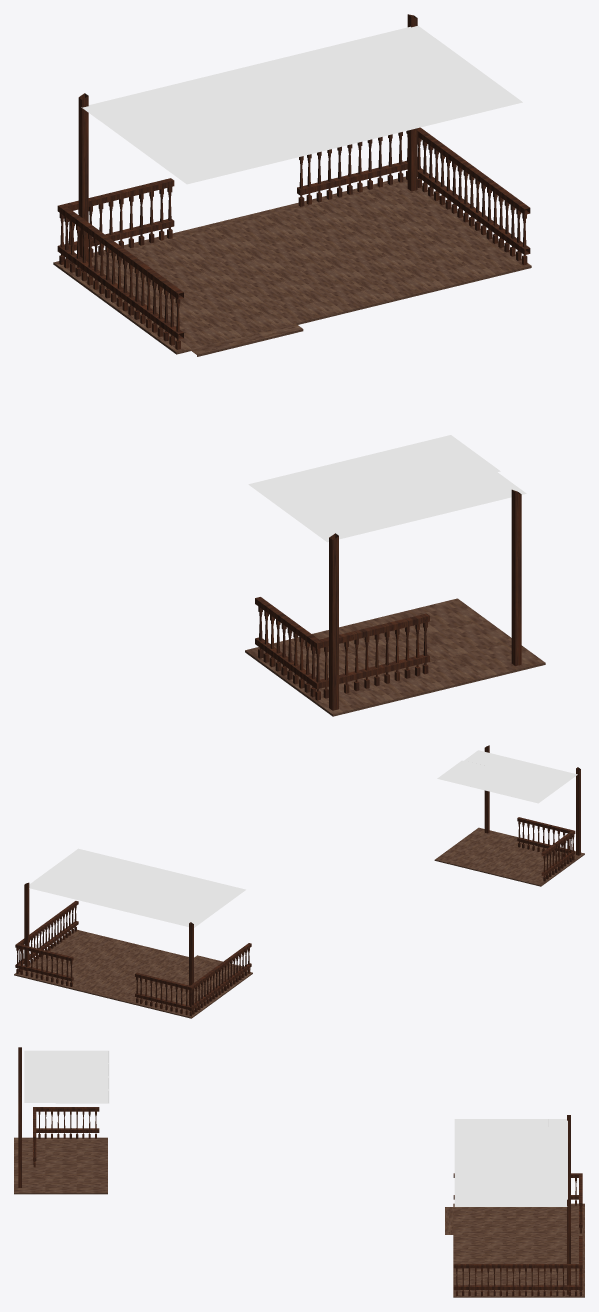
File: Porch.fbx
3 renders of one model, top to bottom at view 1: azimuth 30°, elevation 25°; view 2: azimuth 150°, elevation 25°; view 3: azimuth 270°, elevation 25°, orthographic. The views are drawn at different scales.
Visible parts, largest first — view 1: Porch_Ceiling.013, Porch_Ceiling.012, Porch_Ceiling.015, Porch_Ceiling.014, Column.002, Fence.014, Fence.001, Porch_Floor.004, Column.001, Porch_Floor.003, Porch_Floor.041, Porch_Floor.042 (+57 smaller); view 2: Porch_Ceiling.012, Porch_Ceiling.013, Porch_Ceiling.015, Porch_Ceiling.014, Fence.011, Fence.002, Fence.001, Fence.012, Fence.014, Porch_Floor.008, Column.004, Porch_Floor.004 (+36 smaller); view 3: Porch_Ceiling.012, Porch_Ceiling.013, Porch_Ceiling.015, Porch_Ceiling.014, Porch_Floor.004, Porch_Floor.008, Fence.017, Fence.009, Fence.008, Fence.006, Fence.007, Porch_Floor.003 (+36 smaller).
Part boxes in pixels (left/top/right/bottom): Porch_Ceiling.013: left=131, top=75, right=370, bottom=176; Porch_Ceiling.012: left=283, top=38, right=522, bottom=139; Porch_Ceiling.015: left=81, top=25, right=434, bottom=119; Porch_Ceiling.014: left=99, top=112, right=218, bottom=184; Column.002: left=511, top=489, right=521, bottom=665; Fence.014: left=370, top=615, right=424, bottom=686; Fence.001: left=115, top=179, right=168, bottom=248; Porch_Floor.004: left=427, top=620, right=511, bottom=655; Column.001: left=329, top=533, right=338, bottom=710; Porch_Floor.003: left=456, top=642, right=545, bottom=679; Porch_Floor.041: left=401, top=257, right=480, bottom=292; Porch_Floor.042: left=350, top=269, right=430, bottom=304; Porch_Ceiling.012: left=34, top=848, right=153, bottom=899; Porch_Ceiling.013: left=111, top=867, right=229, bottom=917; Porch_Ceiling.015: left=29, top=881, right=201, bottom=927; Porch_Ceiling.014: left=187, top=886, right=245, bottom=921; Fence.011: left=18, top=944, right=44, bottom=979; Fence.002: left=163, top=979, right=189, bottom=1014; Fence.001: left=138, top=973, right=164, bottom=1008; Fence.012: left=43, top=950, right=70, bottom=985; Fence.014: left=520, top=818, right=546, bottom=851; Porch_Floor.008: left=434, top=849, right=478, bottom=867; Column.004: left=24, top=882, right=29, bottom=970; Porch_Floor.004: left=450, top=838, right=493, bottom=856; Porch_Ceiling.012: left=454, top=1167, right=548, bottom=1206; Porch_Ceiling.013: left=454, top=1127, right=548, bottom=1166; Porch_Ceiling.015: left=549, top=1119, right=567, bottom=1206; Porch_Ceiling.014: left=454, top=1119, right=548, bottom=1127; Porch_Floor.004: left=45, top=1177, right=76, bottom=1194; Porch_Floor.008: left=76, top=1177, right=107, bottom=1194; Fence.017: left=67, top=1107, right=99, bottom=1138; Fence.009: left=547, top=1264, right=579, bottom=1296; Fence.008: left=516, top=1264, right=547, bottom=1296; Fence.006: left=453, top=1264, right=484, bottom=1296; Fence.007: left=485, top=1264, right=516, bottom=1296; Porch_Floor.003: left=14, top=1177, right=45, bottom=1194.
Size of the model in its own units: 1200 by 333 by 1820.
